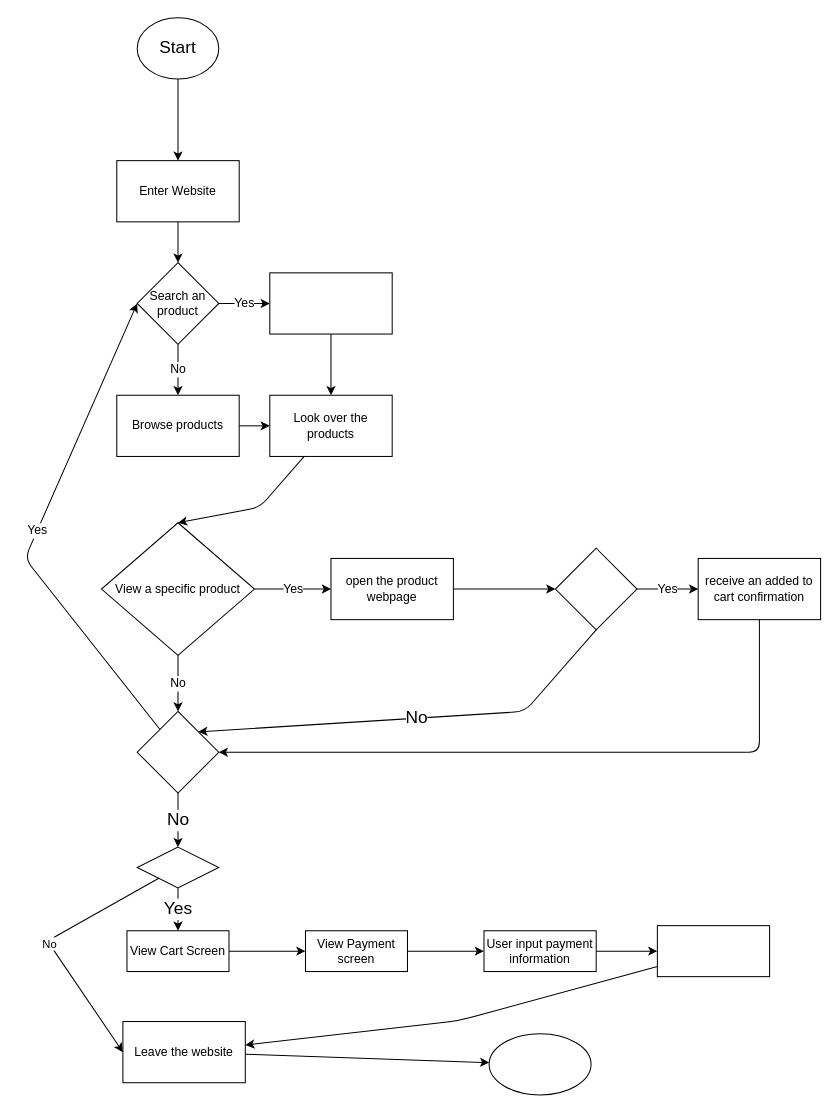
This 838x1113 diagram has some shape labels left out. The shapes that lost their labels are listed below. From the top down, each one's box as (x1, y1, x2, y2) in pixels, then its label:
(269, 272, 392, 334): provide input for the search
(554, 547, 637, 630): Add to Cart
(136, 710, 219, 793): continue shop
(136, 846, 219, 888): Check out
(656, 925, 770, 977): Order confirmation screen(email sent to user)
(488, 1033, 591, 1095): End
